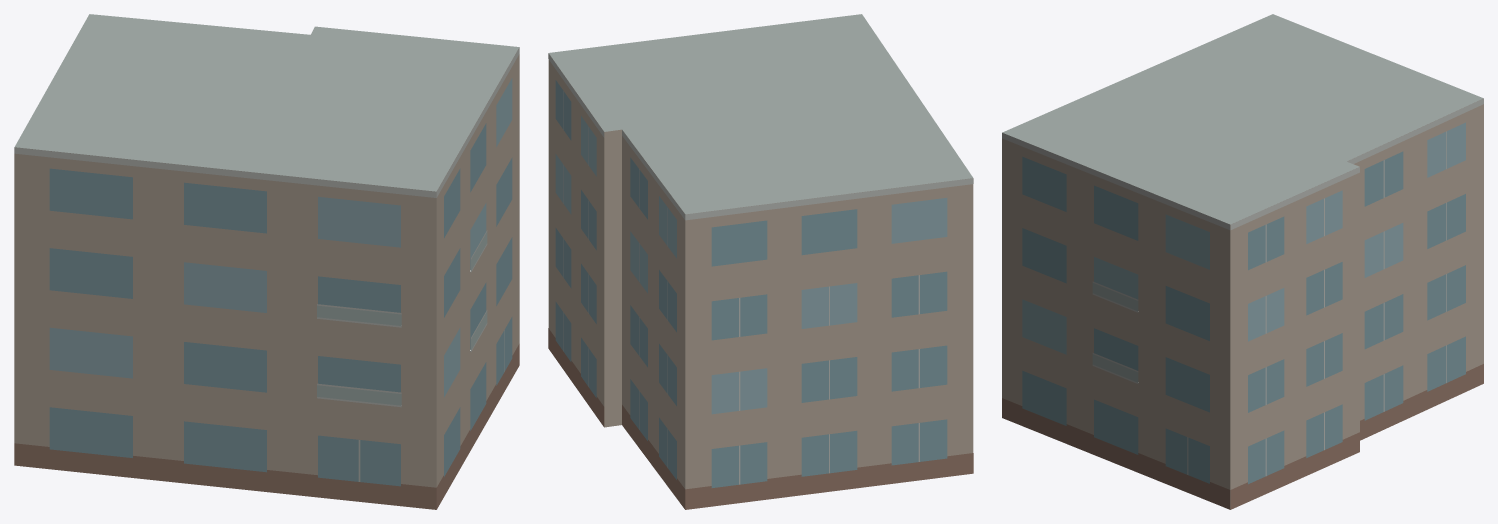
The model's file is survey-upis-32466303.glb.
The picture shows the model from 3 angles, left to right: view 1: azimuth 30°, elevation 25°; view 2: azimuth 150°, elevation 25°; view 3: azimuth 270°, elevation 25°; orthographic projection. The views are drawn at different scales.
Parts seen in each view (by area): view 1: survey-upis-32466303.tmp; view 2: survey-upis-32466303.tmp; view 3: survey-upis-32466303.tmp.
Part boxes in pixels (box(x1,y1,x2,y2)): survey-upis-32466303.tmp: box(14, 14, 519, 509); survey-upis-32466303.tmp: box(548, 14, 973, 509); survey-upis-32466303.tmp: box(1002, 14, 1483, 509).
Bounding box in the file's own units: 19 × 12 × 18.37.
